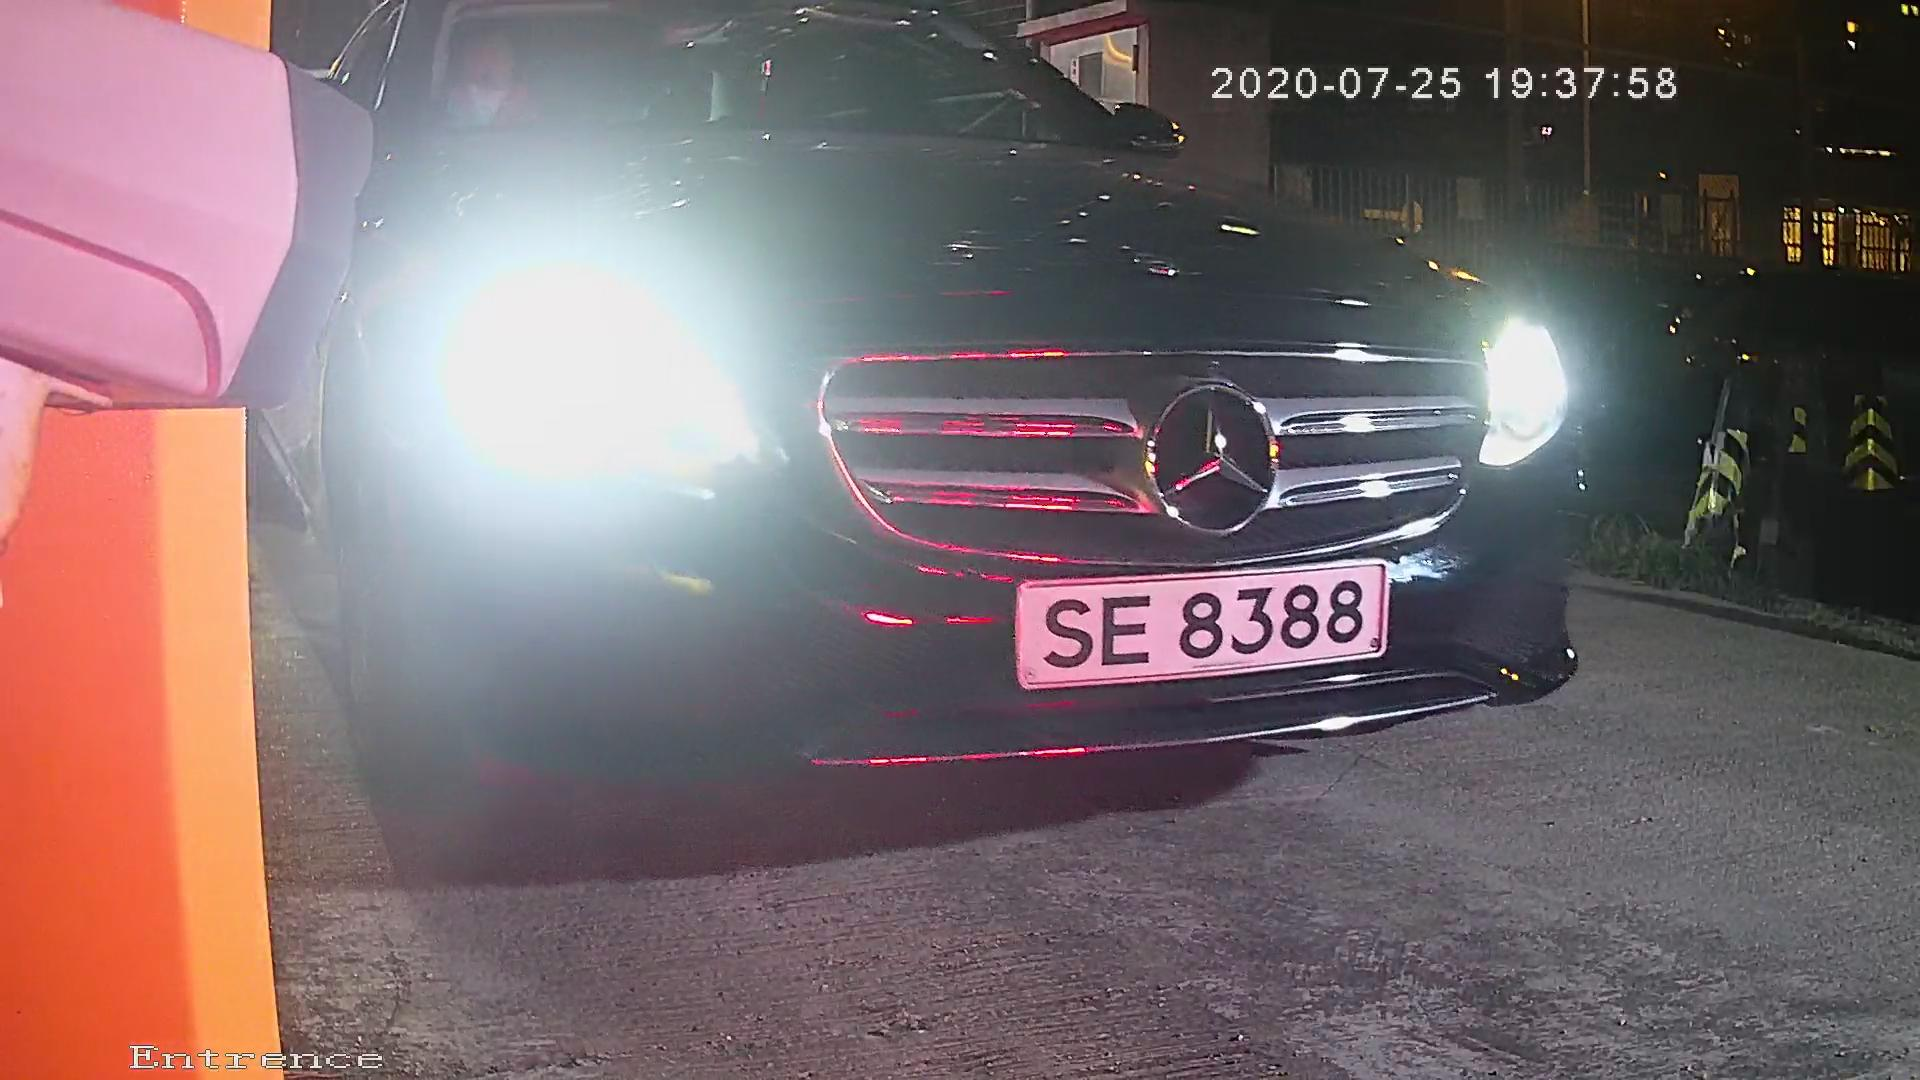Car: (69, 1, 1715, 892)
License Plate: (995, 550, 1415, 695)
